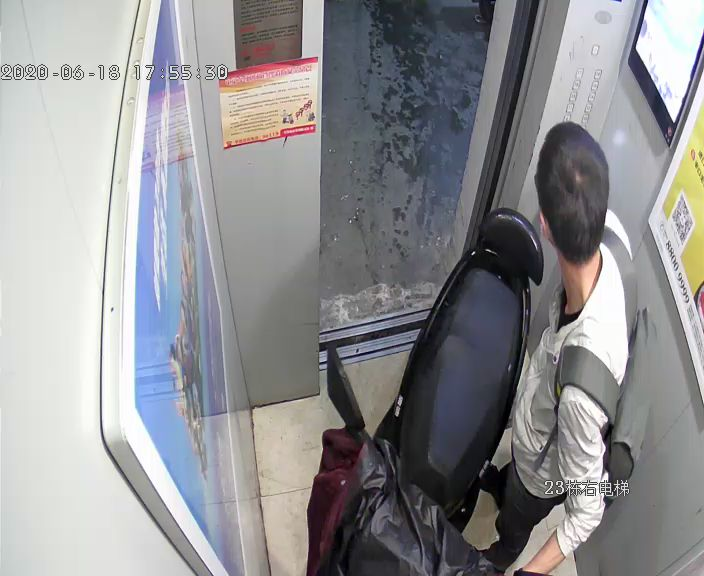Electric-bicycle: (317, 215, 542, 576)
